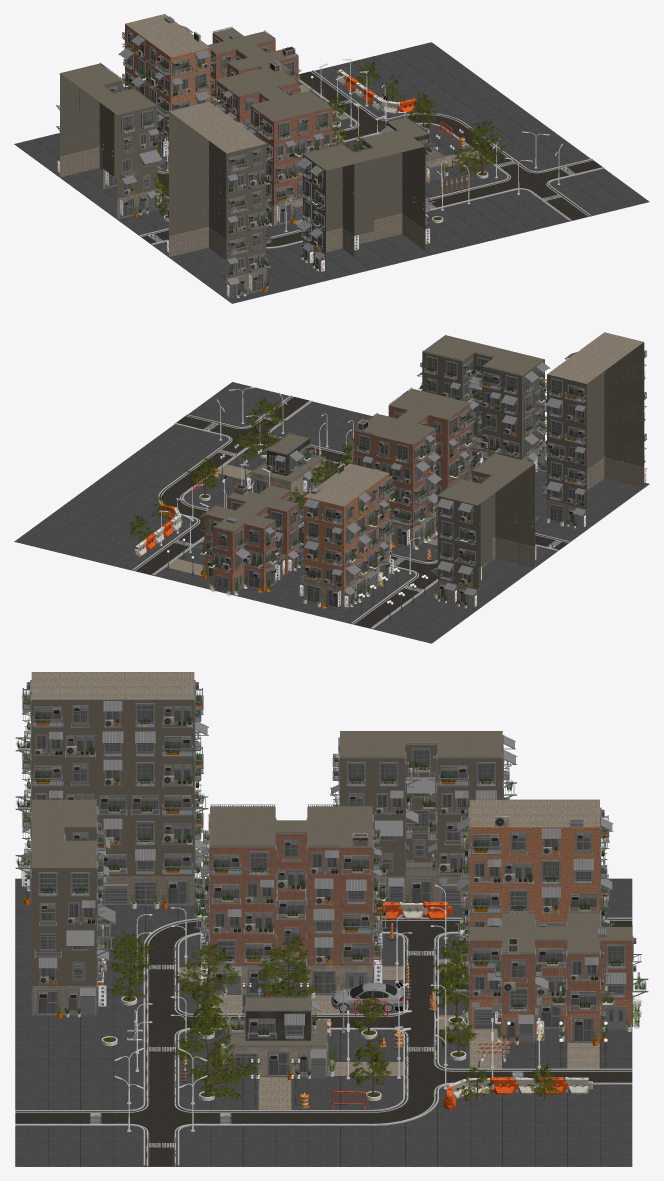
The model's file is neighbourhood_city.glb.
The picture shows the model from 3 angles, top to bottom: view 1: azimuth 30°, elevation 25°; view 2: azimuth 150°, elevation 25°; view 3: azimuth 270°, elevation 25°; orthographic projection. The views are drawn at different scales.
Parts seen in each view (by area): view 1: Object_53, Object_94, Object_88, Object_89, Object_686, Object_632, Object_90, Object_689, Object_92, Object_588, Object_91, Object_871 (+1 smaller); view 2: Object_53, Object_88, Object_94, Object_89, Object_686, Object_90, Object_689, Object_632, Object_92, Object_588, Object_871, Object_91; view 3: Object_53, Object_88, Object_94, Object_89, Object_632, Object_686, Object_90, Object_689, Object_92, Object_588, Object_871, Object_633 (+6 smaller).
Part boxes in pixels (x1,y1,x2,y2): Object_53: [14, 42, 649, 303]; Object_94: [60, 28, 443, 278]; Object_88: [56, 16, 445, 298]; Object_89: [60, 14, 480, 299]; Object_686: [210, 33, 332, 204]; Object_632: [153, 58, 505, 215]; Object_90: [122, 47, 488, 297]; Object_689: [125, 14, 216, 138]; Object_92: [109, 31, 430, 284]; Object_588: [164, 59, 562, 231]; Object_91: [57, 96, 438, 296]; Object_871: [157, 132, 444, 225]; Object_53: [14, 382, 649, 643]; Object_88: [196, 350, 647, 609]; Object_94: [205, 335, 644, 588]; Object_89: [166, 332, 644, 609]; Object_686: [204, 405, 470, 573]; Object_90: [199, 365, 644, 608]; Object_689: [204, 463, 389, 594]; Object_632: [128, 396, 354, 539]; Object_92: [207, 364, 584, 597]; Object_588: [159, 387, 482, 620]; Object_871: [251, 458, 437, 610]; Object_91: [247, 453, 646, 607]; Object_53: [15, 878, 632, 1166]; Object_88: [15, 680, 648, 1077]; Object_94: [31, 672, 632, 1047]; Object_89: [31, 672, 599, 1109]; Object_632: [104, 928, 560, 1101]; Object_686: [210, 807, 632, 1013]; Object_90: [16, 692, 646, 1100]; Object_689: [469, 799, 632, 1042]; Object_92: [24, 682, 639, 1060]; Object_588: [114, 884, 607, 1132]; Object_871: [210, 951, 372, 1077]; Object_633: [112, 940, 550, 1101].
Size of the model in its own units: 42 by 14.05 by 39.18.
21 materials, 20 textured.
